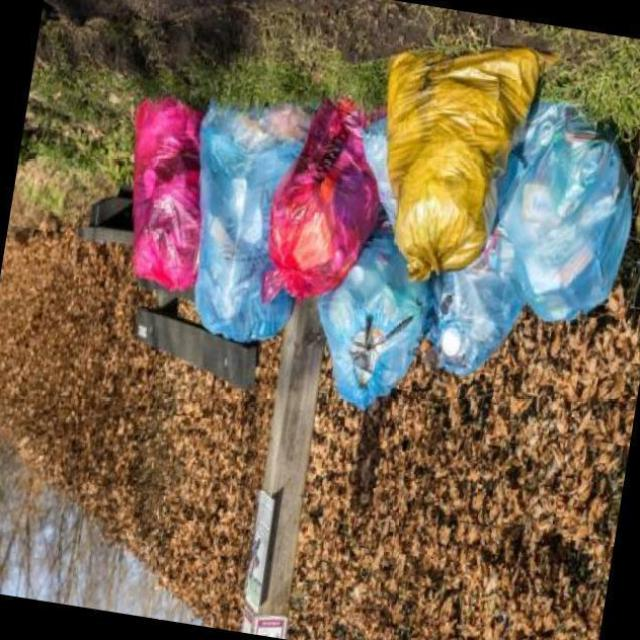plastik: (388, 48, 551, 280), (495, 104, 631, 319), (195, 102, 311, 342), (264, 100, 378, 302), (318, 229, 428, 409), (430, 229, 525, 375), (132, 99, 203, 292)
